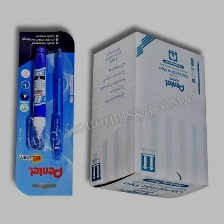book: (85, 28, 212, 201), (12, 29, 75, 198)
correction_fluid: (25, 45, 47, 151)
